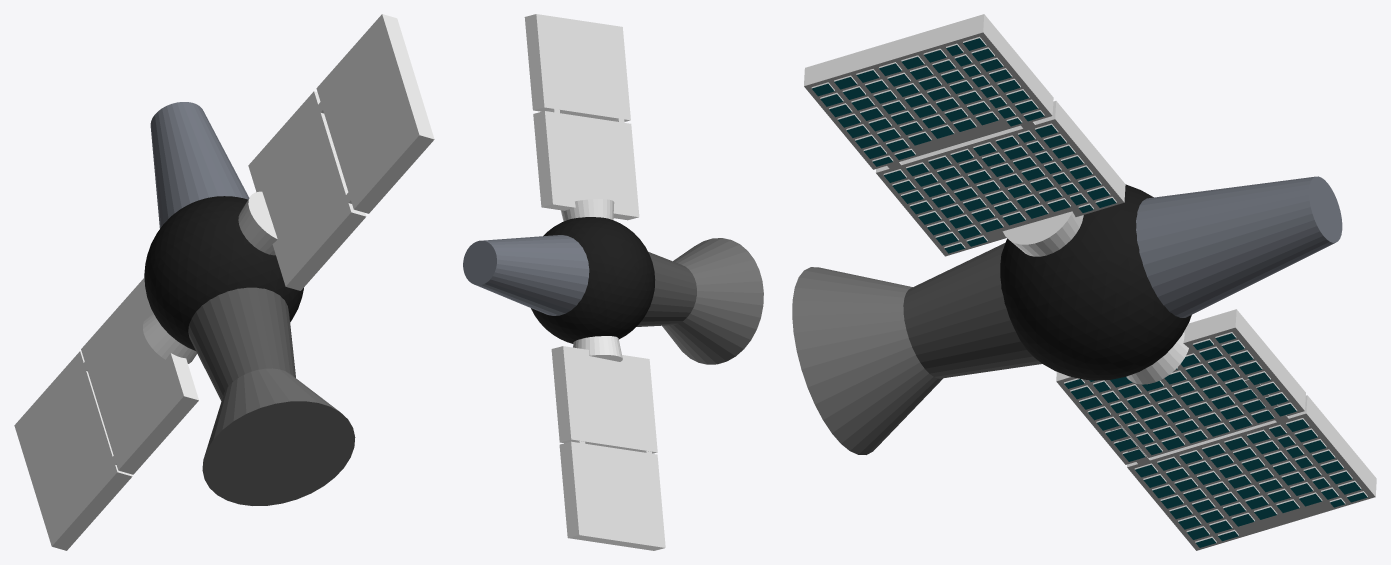
File: sat.glb
The picture shows the model from 3 angles, left to right: view 1: azimuth 30°, elevation 25°; view 2: azimuth 150°, elevation 25°; view 3: azimuth 270°, elevation 25°; orthographic projection. The views are drawn at different scales.
Visible parts, largest first — view 1: Cone, Cube.045, Cube.047, Icosphere.002, Cube.048, Cube.046, Cylinder, Cylinder.001, Cylinder.002, Cylinder.003; view 2: Cube.045, Cube.048, Cube.046, Cube.047, Icosphere.002, Cone, Cylinder.001, Cylinder, Cylinder.003, Cylinder.002; view 3: Cube.045, Icosphere.002, Cube.048, Cube.047, Cylinder.001, Cube.046, Cone, Cylinder, Cylinder.002, Cylinder.003, Cube.050.
Part boxes in pixels (x1=…): Cone: x1=202, y1=368, x2=355, y2=505; Cube.045: x1=316, y1=14, x2=434, y2=213; Cube.047: x1=248, y1=91, x2=366, y2=290; Icosphere.002: x1=144, y1=196, x2=303, y2=350; Cube.048: x1=14, y1=351, x2=132, y2=550; Cube.046: x1=81, y1=277, x2=198, y2=474; Cylinder: x1=188, y1=287, x2=295, y2=400; Cylinder.001: x1=150, y1=102, x2=248, y2=228; Cylinder.002: x1=238, y1=191, x2=277, y2=255; Cylinder.003: x1=143, y1=313, x2=196, y2=363; Cube.045: x1=524, y1=14, x2=630, y2=121; Cube.048: x1=559, y1=441, x2=665, y2=550; Cube.046: x1=551, y1=346, x2=657, y2=453; Cube.047: x1=533, y1=111, x2=639, y2=220; Icosphere.002: x1=531, y1=217, x2=655, y2=343; Cone: x1=662, y1=238, x2=763, y2=364; Cylinder.001: x1=463, y1=235, x2=589, y2=315; Cylinder: x1=636, y1=251, x2=696, y2=326; Cylinder.003: x1=573, y1=336, x2=622, y2=361; Cylinder.002: x1=561, y1=199, x2=614, y2=221; Cube.045: x1=804, y1=14, x2=1053, y2=169; Icosphere.002: x1=1000, y1=184, x2=1191, y2=380; Cube.048: x1=1127, y1=395, x2=1376, y2=550; Cube.047: x1=875, y1=101, x2=1125, y2=256; Cylinder.001: x1=1136, y1=176, x2=1342, y2=317; Cube.046: x1=1056, y1=309, x2=1305, y2=464; Cone: x1=792, y1=267, x2=942, y2=454; Cylinder: x1=903, y1=242, x2=1041, y2=378; Cylinder.002: x1=1002, y1=211, x2=1083, y2=256; Cylinder.003: x1=1126, y1=331, x2=1188, y2=384; Cube.050: x1=987, y1=79, x2=1062, y2=163.
Size of the model in its own units: 2.77 by 5.54 by 4.34.
